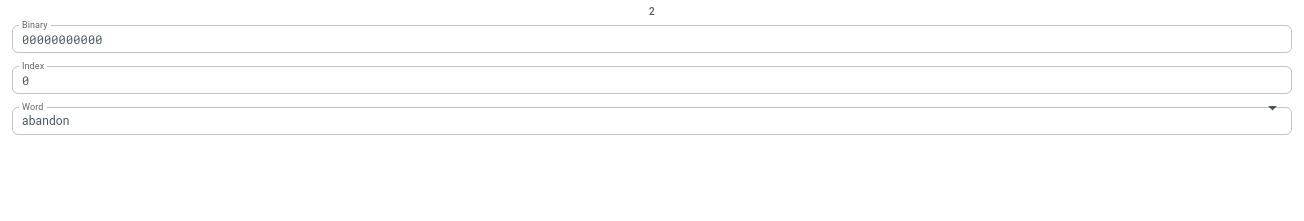
Scenario: mnemonic group item › should change inputs if the word has changed
Type "zoo" into the dropdown labelled "Word" at (624, 120), box [12, 106, 1236, 134]
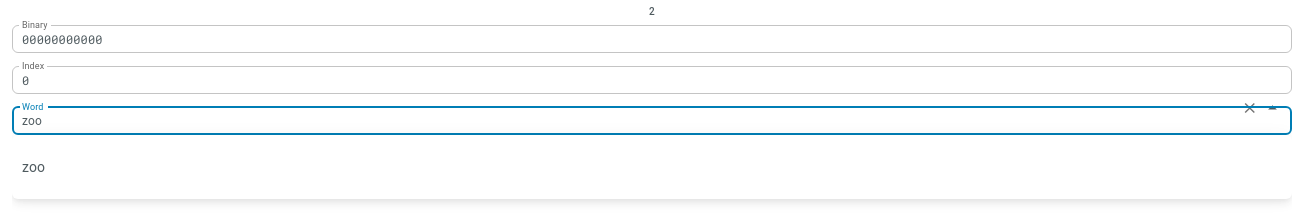
Click the option "zoo" at (34, 166), box [22, 158, 45, 174]
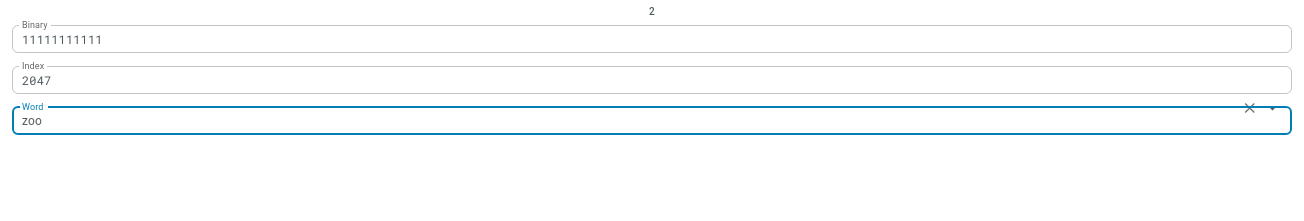
Expected: the field labelled "Binary" holds "11111111111", [12, 24, 1292, 52]
Expected: the number field labelled "Index" holds "2047", [12, 66, 1292, 94]
Type "1" into the dropdown labelled "Word" at (624, 120), box [12, 106, 1236, 134]
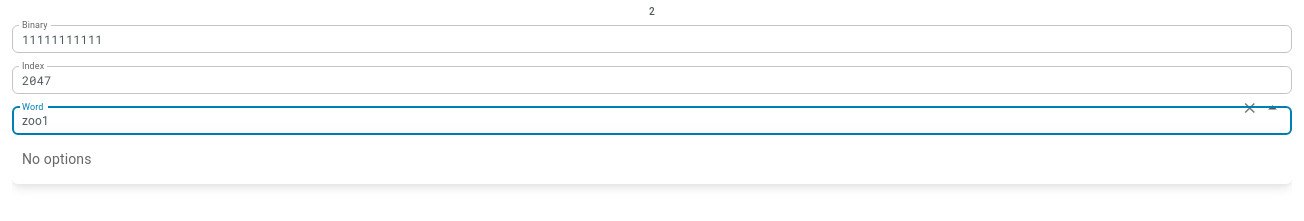
Click the field labelled "Binary" at (652, 38), box [12, 24, 1292, 52]
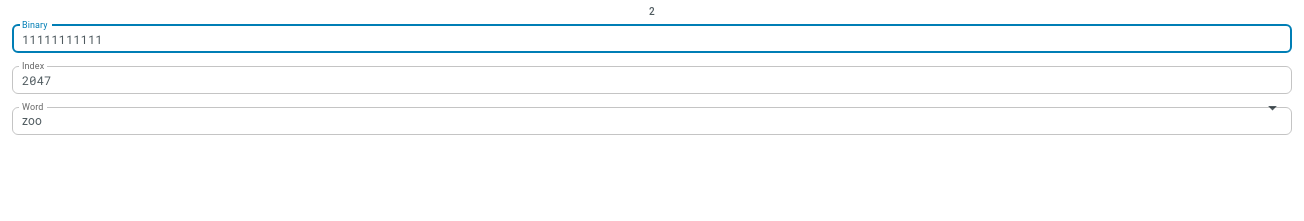
Expected: the field labelled "Binary" holds "11111111111", [12, 24, 1292, 52]
Expected: the number field labelled "Index" holds "2047", [12, 66, 1292, 94]
Type "abandon" into the dropdown labelled "Word" at (624, 120), box [12, 106, 1236, 134]
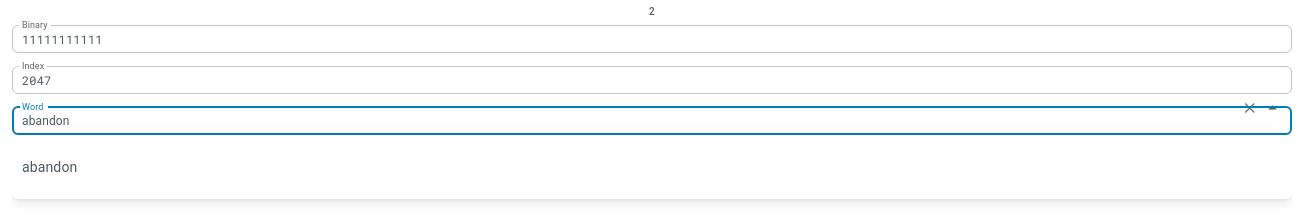
Click the option "abandon" at (50, 166), box [22, 158, 77, 174]
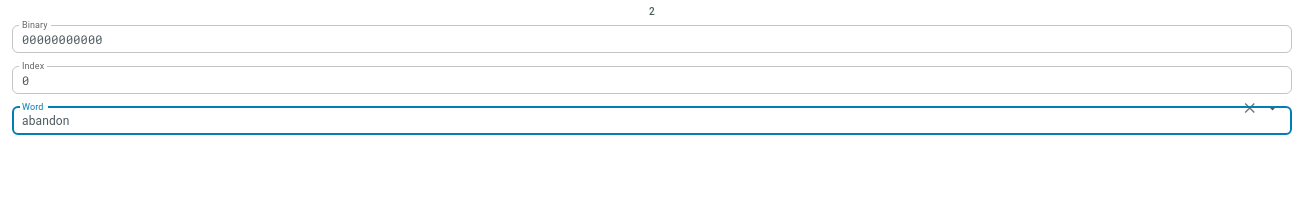
Expected: the field labelled "Binary" holds "00000000000", [12, 24, 1292, 52]
Expected: the number field labelled "Index" holds "0", [12, 66, 1292, 94]
